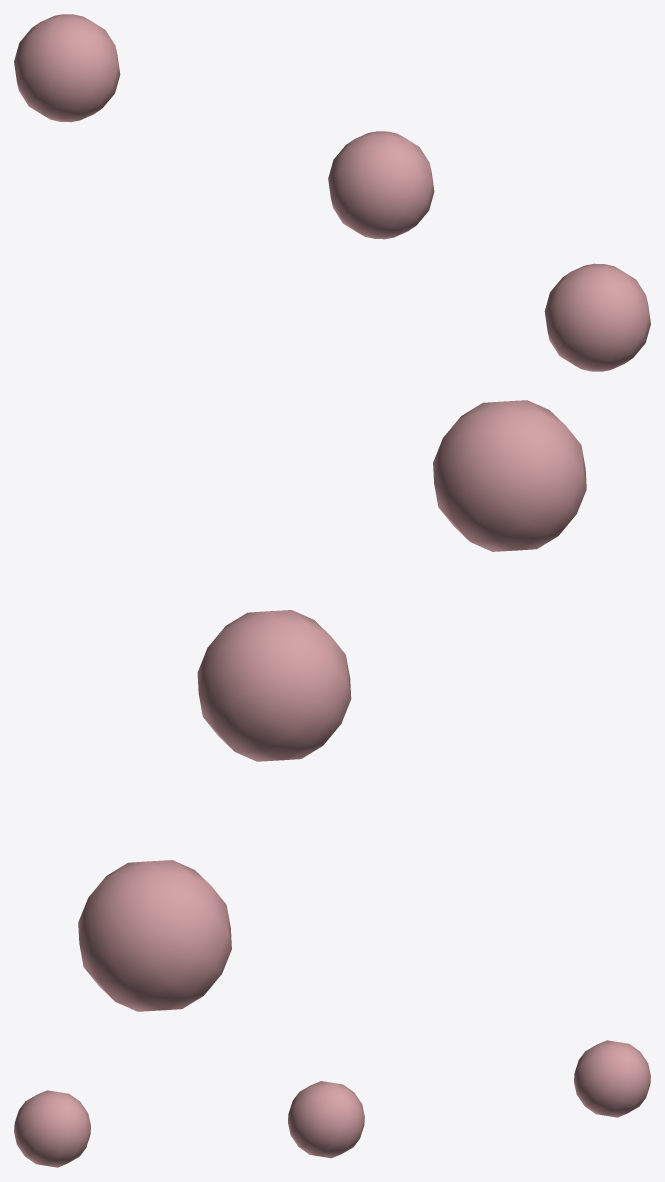
3 views of the same model, one above another, from view 1: azimuth 30°, elevation 25°; view 2: azimuth 150°, elevation 25°; view 3: azimuth 270°, elevation 25° (orthographic). The views are drawn at different scales.
Parts seen in each view (by area): view 1: ZA_bef4532fd3e2de62; view 2: ZA_bef4532fd3e2de62; view 3: ZA_bef4532fd3e2de62.
Part boxes in pixels (left/top/right/bottom): ZA_bef4532fd3e2de62: left=14, top=14, right=650, bottom=371; ZA_bef4532fd3e2de62: left=78, top=400, right=586, bottom=1011; ZA_bef4532fd3e2de62: left=14, top=1040, right=650, bottom=1167.
Size of the model in its own units: 0.0065 by 0.00256 by 0.0212.
